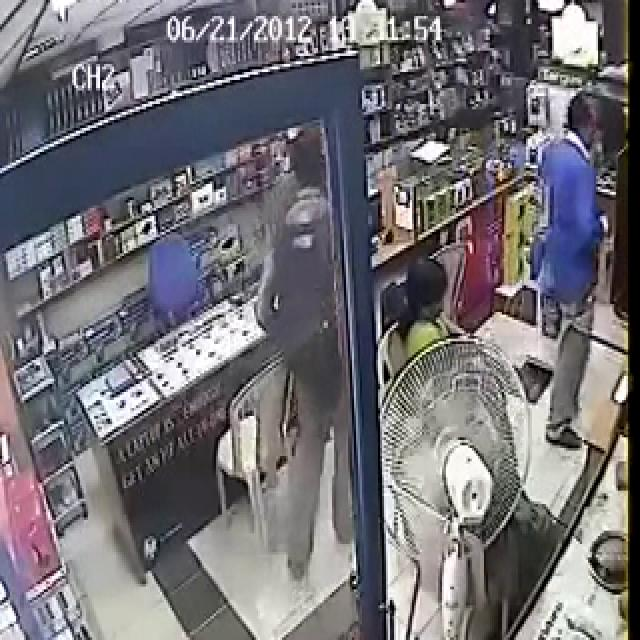shoplifting: (214, 0, 573, 640)
